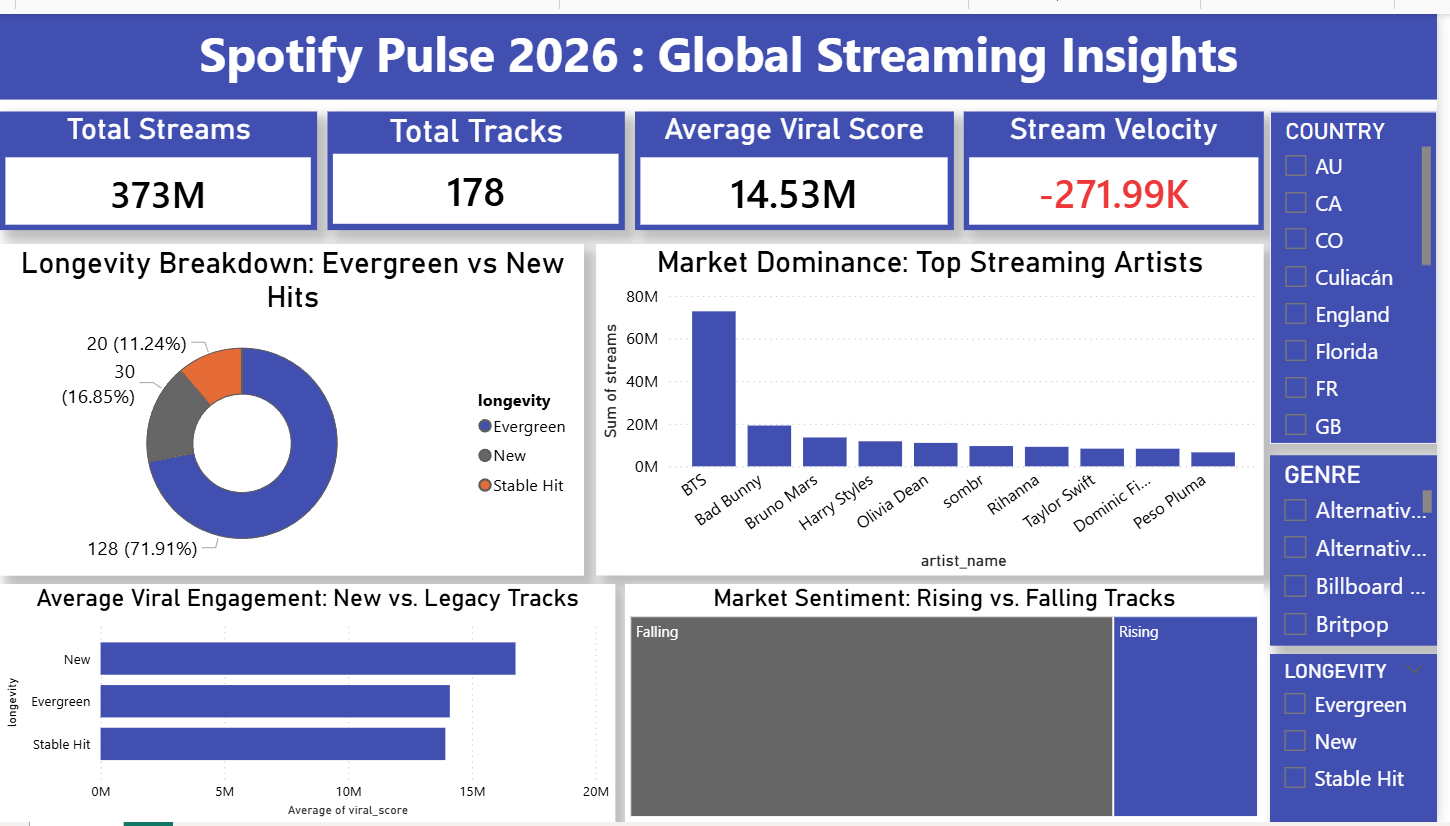

What the dashboard file says about the page in this screenshot:
{"tool":"powerbi","page":{"name":"Page 1","canvas":[1280,720],"ordinal":0},"visuals":[{"type":"cardVisual","title":"Total Streams","fields":{"Data":["Sum(spotify_global_trends.streams)"]},"box":[0,86.8,282.7,105.8],"z":0},{"type":"cardVisual","title":"Total Tracks","fields":{"Data":["Count(spotify_global_trends.track_name)"]},"box":[291.7,86.8,264.9,105.8],"z":1000},{"type":"cardVisual","title":"Average Viral Score","fields":{"Data":["Avg(spotify_global_trends.viral_score)"]},"box":[565.5,86.8,283.9,105.8],"z":2000},{"type":"textbox","box":[0,0,1280.3,76],"z":3000},{"type":"cardVisual","title":"Stream Velocity","fields":{"Data":["Avg(spotify_global_trends.stream_change)"]},"box":[858.3,86.8,267.2,105.8],"z":4000},{"type":"donutChart","title":"Longevity Breakdown: Evergreen vs New Hits","fields":{"Category":["spotify_global_trends.longevity"],"Y":["CountNonNull(spotify_global_trends.popularity_category)"]},"box":[0,204.8,519.9,295],"z":5000},{"type":"columnChart","title":"Market Dominance: Top Streaming Artists","fields":{"Category":["spotify_global_trends.artist_name"],"Y":["Sum(spotify_global_trends.streams)"]},"box":[531,204.8,594.4,295],"z":6000},{"type":"clusteredBarChart","title":"Average Viral Engagement: New vs. Legacy Tracks","fields":{"Category":["spotify_global_trends.longevity"],"Y":["Avg(spotify_global_trends.viral_score)"]},"box":[0,507.6,547.7,212.6],"z":7000},{"type":"treemap","title":"Market Sentiment: Rising vs. Falling Tracks","fields":{"Group":["spotify_global_trends.trend"],"Values":["CountNonNull(spotify_global_trends.track_name)"]},"box":[556.6,507.6,568.8,212.6],"z":8000},{"type":"slicer","fields":{"Values":["spotify_global_trends.country"]},"box":[1131,86.8,149.2,296.1],"z":9000},{"type":"slicer","fields":{"Values":["spotify_global_trends.genre"]},"box":[1131,393,149.2,169.2],"z":10000},{"type":"slicer","fields":{"Values":["spotify_global_trends.longevity"]},"box":[1131,569.9,149.2,150.3],"z":11000}]}

Visuals, with their boxes in screenshot pixels (x1, y1, x2, y2), scaled from the page's 1280x720 canvas onto the 1450x826 screenshot:
"Total Streams" cardVisual: bbox=[0, 100, 320, 221]
"Total Tracks" cardVisual: bbox=[330, 100, 631, 221]
"Average Viral Score" cardVisual: bbox=[641, 100, 962, 221]
textbox: bbox=[0, 0, 1449, 87]
"Stream Velocity" cardVisual: bbox=[972, 100, 1275, 221]
"Longevity Breakdown: Evergreen vs New Hits" donutChart: bbox=[0, 235, 589, 573]
"Market Dominance: Top Streaming Artists" columnChart: bbox=[602, 235, 1275, 573]
"Average Viral Engagement: New vs. Legacy Tracks" clusteredBarChart: bbox=[0, 582, 620, 825]
"Market Sentiment: Rising vs. Falling Tracks" treemap: bbox=[631, 582, 1275, 825]
slicer - spotify_global_trends.country: bbox=[1281, 100, 1449, 439]
slicer - spotify_global_trends.genre: bbox=[1281, 451, 1449, 645]
slicer - spotify_global_trends.longevity: bbox=[1281, 654, 1449, 825]
